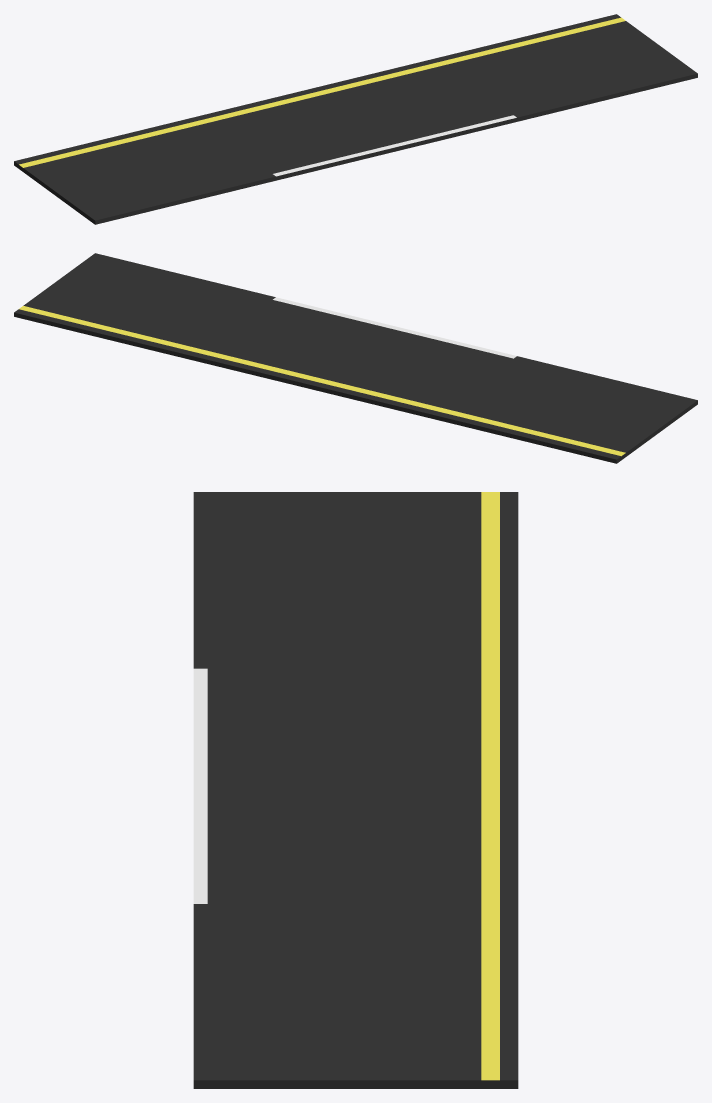
File: bike_road.gltf
3 renders of one model, top to bottom at view 1: azimuth 30°, elevation 25°; view 2: azimuth 150°, elevation 25°; view 3: azimuth 270°, elevation 25°, orthographic. The views are drawn at different scales.
Visible parts, largest first — view 1: Lo-车道单元06a_01; view 2: Lo-车道单元06a_01; view 3: Lo-车道单元06a_01.
Boxes of the visible parts, x1,y1,x2,y2 form: Lo-车道单元06a_01: (14, 14, 697, 224); Lo-车道单元06a_01: (14, 253, 697, 463); Lo-车道单元06a_01: (193, 492, 518, 1088).
Size of the model in its own units: 15 by 0.1 by 3.5.
Materials: 1 (1 with a texture image).
